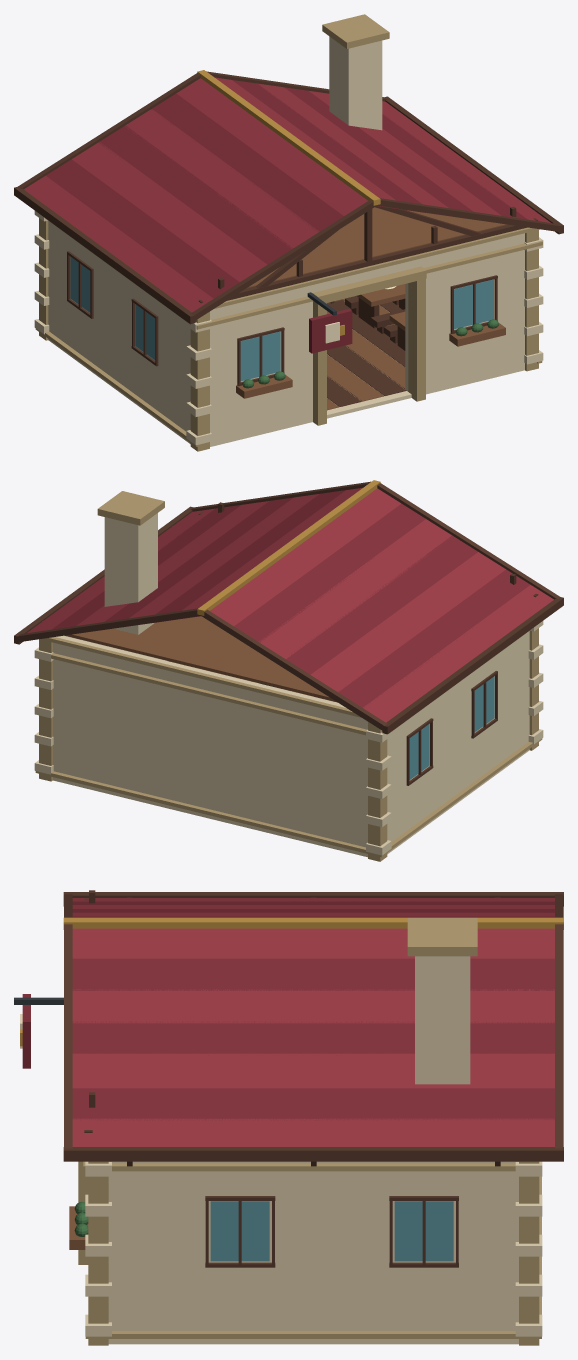
File: Tavern.glb
3 renders of one model, top to bottom at view 1: azimuth 30°, elevation 25°; view 2: azimuth 150°, elevation 25°; view 3: azimuth 270°, elevation 25°, orthographic. The views are drawn at different scales.
Visible parts, largest first — view 1: Tavern_002_Side, Tavern_003_FrontWing, Tavern_040_FrontWing, Tavern_097_RoofTileBand, Tavern_095_RoofTileBand, Tavern_096_RoofTileBand, Tavern_098_RoofTileBand, Tavern_094_RoofTileBand, Tavern_093_RoofTileBand, Tavern_124_Ceiling, Tavern_099_RoofTileBand, Tavern_279_Chimney (+41 smaller); view 2: Tavern_001_Rear, Tavern_002_Side, Tavern_124_Ceiling, Tavern_097_RoofTileBand, Tavern_095_RoofTileBand, Tavern_096_RoofTileBand, Tavern_094_RoofTileBand, Tavern_098_RoofTileBand, Tavern_093_RoofTileBand, Tavern_099_RoofTileBand, Tavern_279_Chimney, Tavern_107_RoofTileBand (+24 smaller); view 3: Tavern_039_Side, Tavern_110_RoofTileBand, Tavern_111_RoofTileBand, Tavern_108_RoofTileBand, Tavern_107_RoofTileBand, Tavern_112_RoofTileBand, Tavern_109_RoofTileBand, Tavern_106_RoofTileBand, Tavern_115_Eave, Tavern_279_Chimney, Tavern_119_Ridge, Tavern_084_SideCourse (+17 smaller).
Boxes of the visible parts, x1,y1,x2,y2 form: Tavern_002_Side: (48, 221, 190, 443); Tavern_003_FrontWing: (210, 283, 321, 445); Tavern_040_FrontWing: (405, 233, 523, 393); Tavern_097_RoofTileBand: (72, 142, 267, 281); Tavern_095_RoofTileBand: (125, 109, 319, 248); Tavern_096_RoofTileBand: (98, 125, 293, 264); Tavern_098_RoofTileBand: (46, 159, 239, 298); Tavern_094_RoofTileBand: (150, 93, 343, 231); Tavern_093_RoofTileBand: (176, 78, 367, 215); Tavern_124_Ceiling: (246, 207, 507, 288); Tavern_099_RoofTileBand: (24, 176, 213, 312); Tavern_279_Chimney: (329, 36, 382, 130); Tavern_001_Rear: (53, 635, 367, 856); Tavern_002_Side: (387, 631, 529, 853); Tavern_124_Ceiling: (65, 616, 336, 701); Tavern_097_RoofTileBand: (310, 552, 505, 692); Tavern_095_RoofTileBand: (258, 519, 452, 658); Tavern_096_RoofTileBand: (286, 535, 477, 674); Tavern_094_RoofTileBand: (234, 503, 425, 642); Tavern_098_RoofTileBand: (338, 569, 530, 707); Tavern_093_RoofTileBand: (210, 488, 401, 626); Tavern_099_RoofTileBand: (363, 585, 553, 722); Tavern_279_Chimney: (104, 513, 157, 634); Tavern_107_RoofTileBand: (151, 490, 345, 623); Tavern_039_Side: (108, 1161, 518, 1344); Tavern_110_RoofTileBand: (72, 1053, 554, 1088); Tavern_111_RoofTileBand: (72, 1088, 554, 1120); Tavern_108_RoofTileBand: (72, 989, 554, 1023); Tavern_107_RoofTileBand: (72, 958, 554, 990); Tavern_112_RoofTileBand: (72, 1118, 554, 1146); Tavern_109_RoofTileBand: (72, 1021, 554, 1055); Tavern_106_RoofTileBand: (72, 928, 554, 958); Tavern_115_Eave: (63, 1147, 563, 1161); Tavern_279_Chimney: (415, 956, 470, 1084); Tavern_119_Ridge: (63, 917, 563, 929); Tavern_084_SideCourse: (112, 1163, 515, 1171).
Size of the model in its own units: 33.28 by 22.38 by 29.9.
